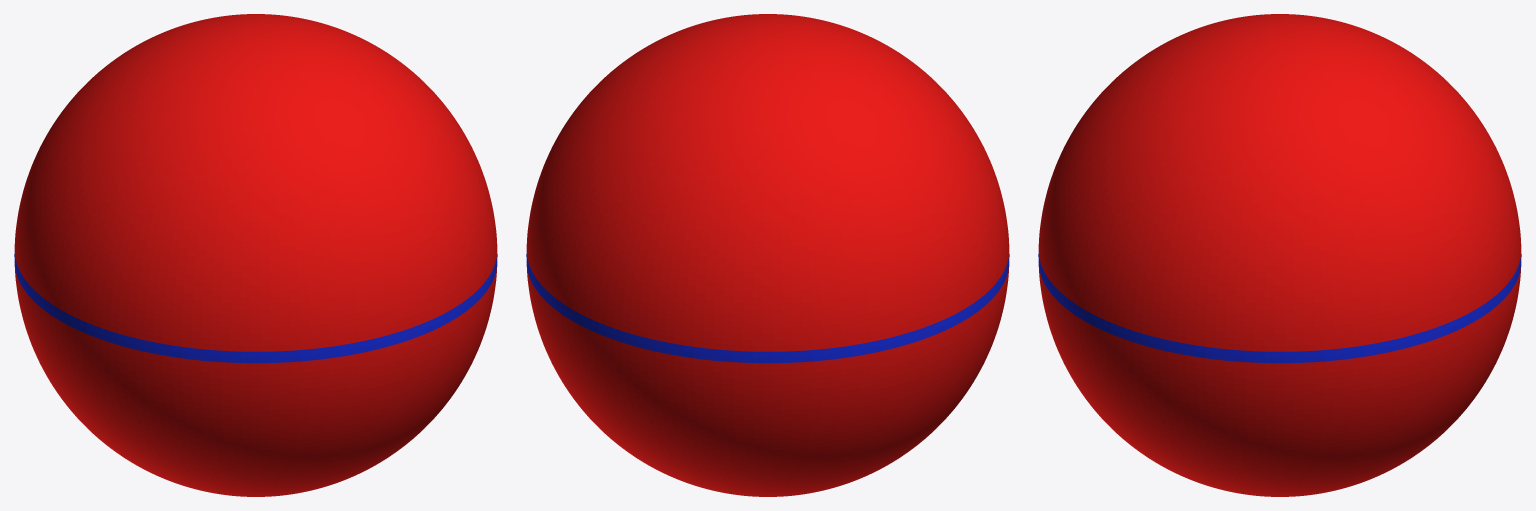
Rendered from Red ball.fbx.
3 renders of one model, left to right at view 1: azimuth 30°, elevation 25°; view 2: azimuth 150°, elevation 25°; view 3: azimuth 270°, elevation 25°, orthographic.
Visible parts, largest first — view 1: Sphere; view 2: Sphere; view 3: Sphere.
Boxes of the visible parts, x1=… form: Sphere: x1=14, y1=14, x2=497, y2=496; Sphere: x1=526, y1=14, x2=1009, y2=496; Sphere: x1=1038, y1=14, x2=1521, y2=496.
Bounding box in the file's own units: 200 × 200 × 200.
